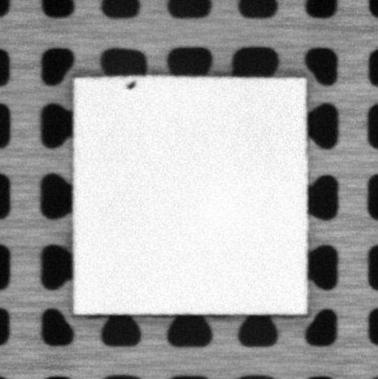DIE_INK: (127, 79, 136, 90)
